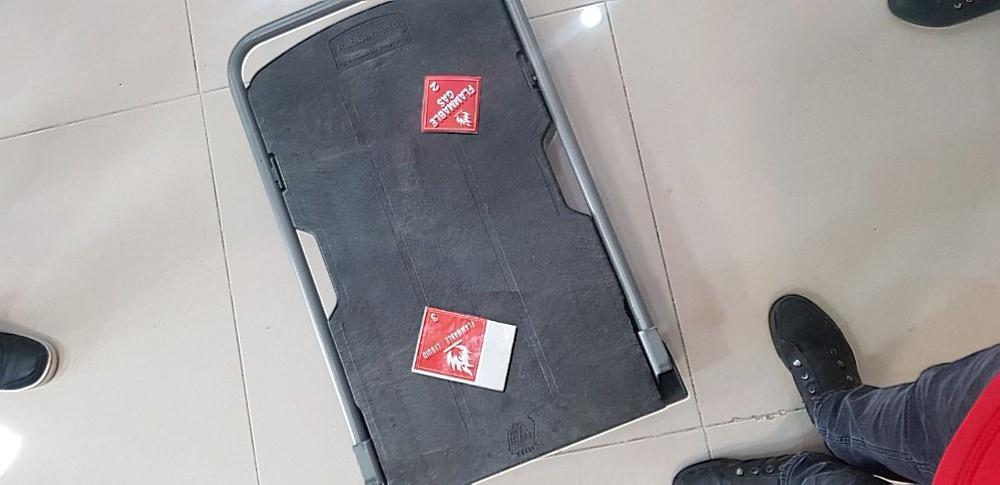flammable: (413, 308, 487, 382), (422, 77, 480, 133)
